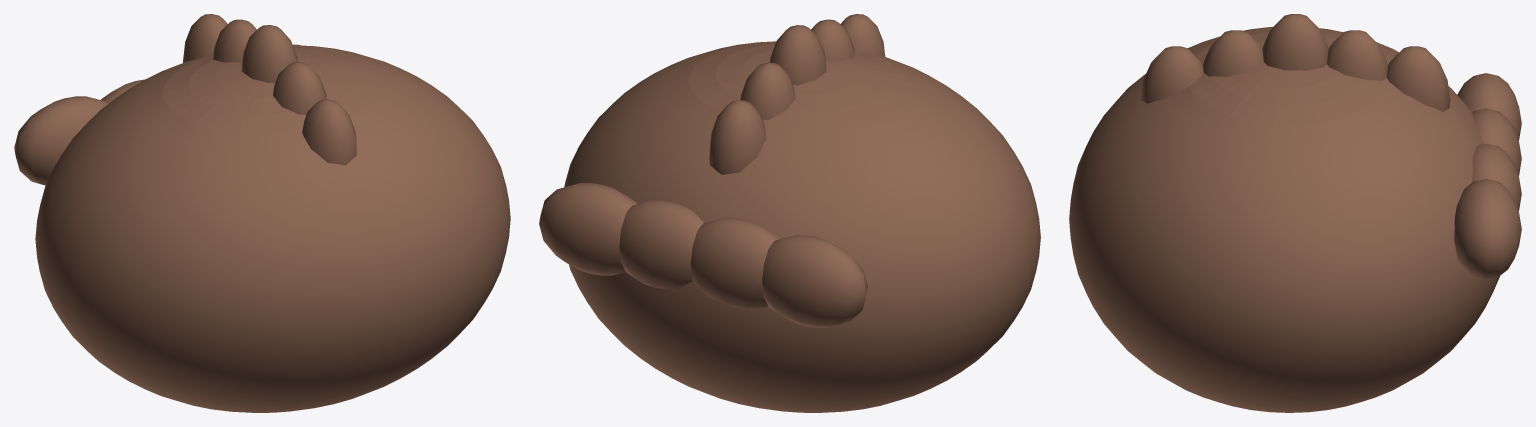
Rendered from Hair_Mohawk.fbx.
The picture shows the model from 3 angles, left to right: view 1: azimuth 30°, elevation 25°; view 2: azimuth 150°, elevation 25°; view 3: azimuth 270°, elevation 25°; orthographic projection. The views are drawn at different scales.
Visible parts, largest first — view 1: Hair, Hair_Bang.003, Hair_Crest.004, Hair_Crest.002, Hair_Crest.003, Hair_Crest, Hair_Crest.001; view 2: Hair, Hair_Bang.003, Hair_Bang, Hair_Bang.002, Hair_Bang.001, Hair_Crest, Hair_Crest.002, Hair_Crest.001, Hair_Crest.003, Hair_Crest.004; view 3: Hair, Hair_Bang, Hair_Crest.002, Hair_Crest, Hair_Crest.004, Hair_Crest.001, Hair_Crest.003, Hair_Bang.003, Hair_Bang.001, Hair_Bang.002.
Boxes of the visible parts, left/top/right/bottom form: Hair: left=35, top=45, right=510, bottom=412; Hair_Bang.003: left=14, top=96, right=107, bottom=185; Hair_Crest.004: left=302, top=99, right=356, bottom=165; Hair_Crest.002: left=241, top=25, right=297, bottom=82; Hair_Crest.003: left=273, top=62, right=326, bottom=114; Hair_Crest: left=183, top=14, right=227, bottom=62; Hair_Crest.001: left=213, top=19, right=256, bottom=62; Hair: left=564, top=41, right=1040, bottom=412; Hair_Bang.003: left=762, top=235, right=867, bottom=327; Hair_Bang: left=539, top=183, right=637, bottom=275; Hair_Bang.002: left=690, top=217, right=780, bottom=308; Hair_Bang.001: left=619, top=200, right=703, bottom=289; Hair_Crest: left=709, top=100, right=766, bottom=174; Hair_Crest.002: left=769, top=25, right=826, bottom=85; Hair_Crest.001: left=740, top=62, right=795, bottom=119; Hair_Crest.003: left=811, top=19, right=854, bottom=61; Hair_Crest.004: left=840, top=14, right=885, bottom=56; Hair: left=1069, top=27, right=1499, bottom=412; Hair_Bang: left=1454, top=179, right=1521, bottom=279; Hair_Crest.002: left=1262, top=14, right=1328, bottom=70; Hair_Crest: left=1387, top=46, right=1450, bottom=111; Hair_Crest.004: left=1140, top=46, right=1203, bottom=103; Hair_Crest.001: left=1327, top=30, right=1388, bottom=80; Hair_Crest.003: left=1202, top=30, right=1263, bottom=76; Hair_Bang.003: left=1457, top=73, right=1521, bottom=140; Hair_Bang.001: left=1472, top=143, right=1521, bottom=211; Hair_Bang.002: left=1472, top=108, right=1521, bottom=175.
Bounding box in the file's own units: 84 × 68 × 76.
